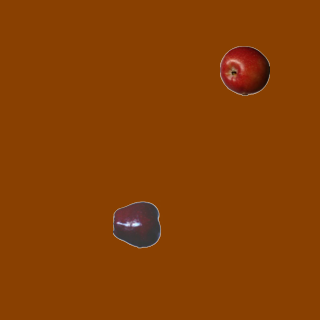Apple Braeburn: (219, 45, 269, 95)
Apple Red Delicious: (112, 199, 162, 249)
